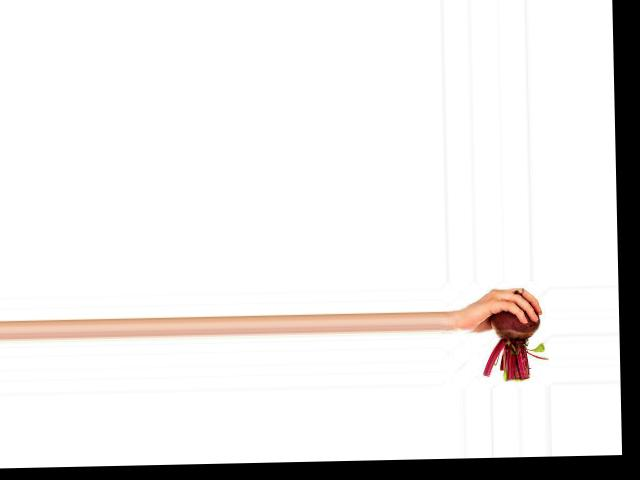beet: (481, 289, 548, 381)
